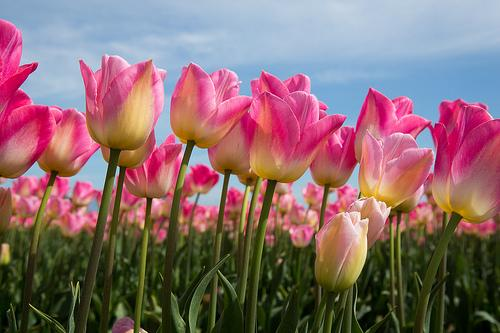tulip: (250, 93, 346, 180), (80, 52, 164, 148), (436, 106, 500, 221), (171, 64, 250, 144), (361, 131, 435, 208), (39, 107, 101, 176), (316, 213, 367, 287), (0, 17, 36, 104)
